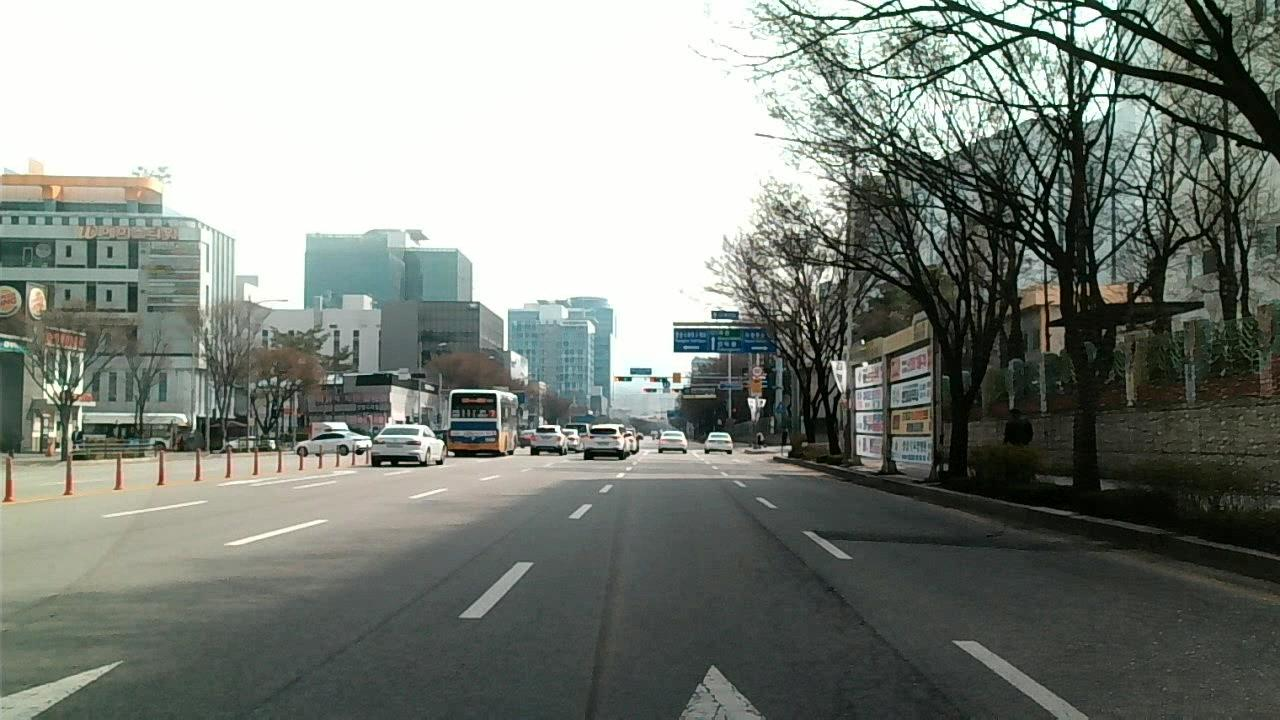banner: (887, 344, 932, 378), (889, 435, 935, 464), (889, 379, 934, 407), (888, 409, 934, 436), (851, 362, 885, 387), (853, 433, 887, 458), (854, 412, 887, 433), (853, 388, 884, 410)
